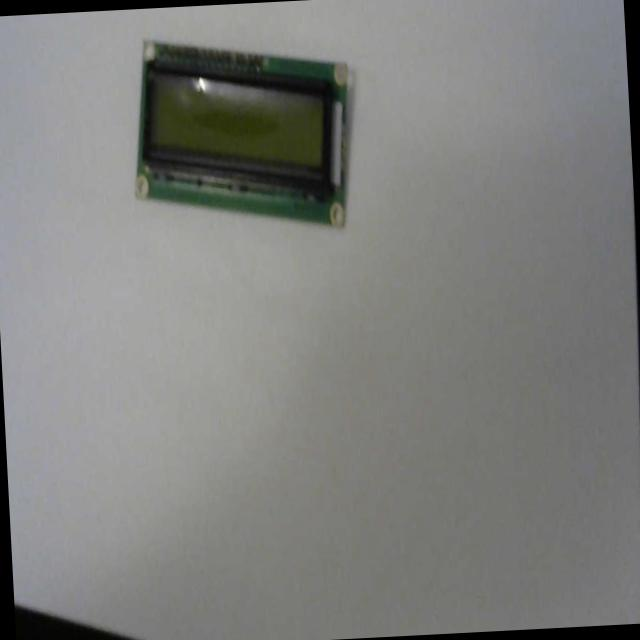lcd: (126, 27, 357, 240)
